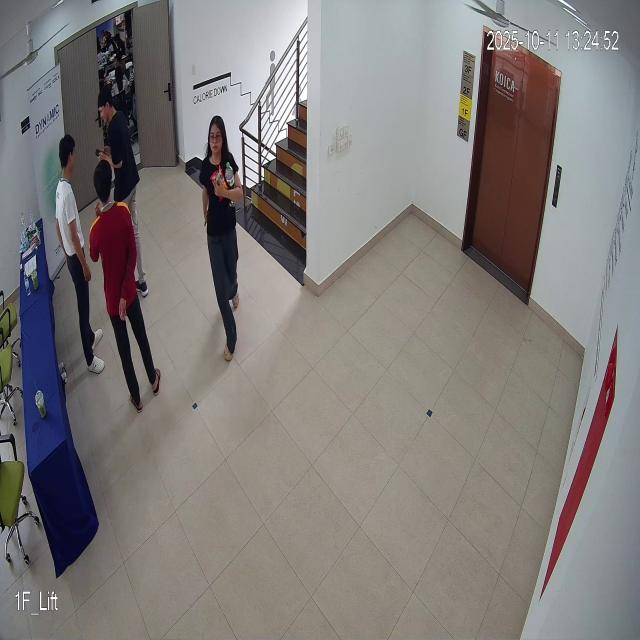face: (204, 110, 230, 169)
